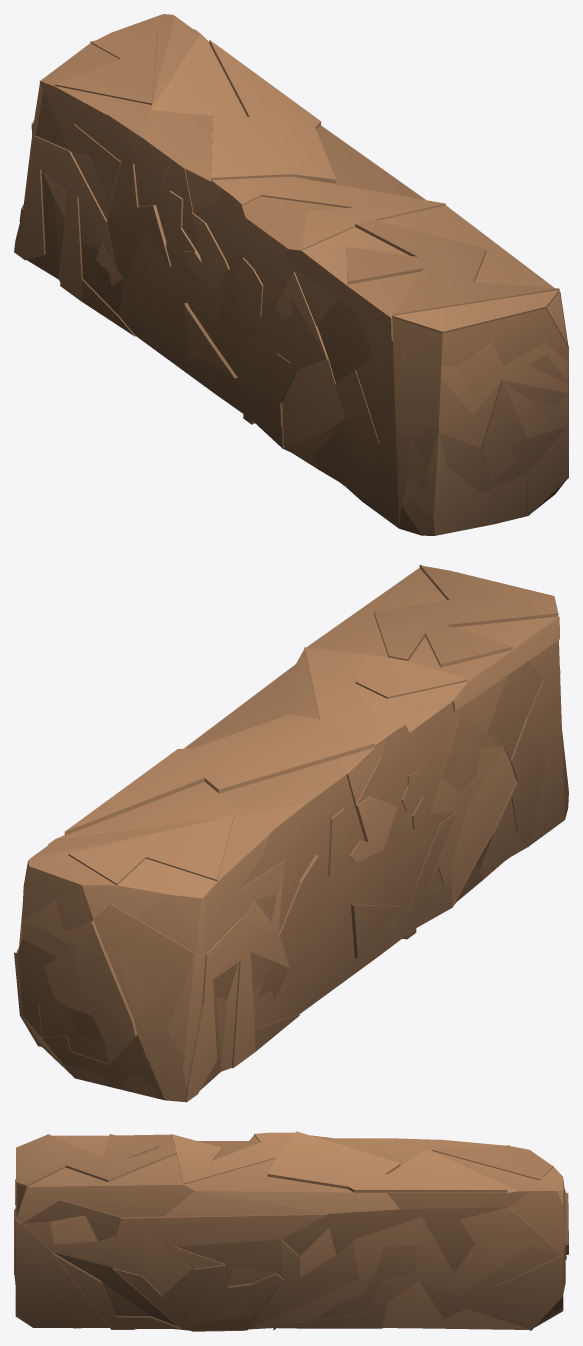
Rendered from Sandstone_Wall_Low_Poly_V1.glb.
3 views of the same model, one above another, from view 1: azimuth 30°, elevation 25°; view 2: azimuth 150°, elevation 25°; view 3: azimuth 270°, elevation 25° (orthographic). The views are drawn at different scales.
Visible parts, largest first — view 1: Cube; view 2: Cube; view 3: Cube.
Boxes of the visible parts, <box> form: Cube: <box>14,14,568,535</box>; Cube: <box>14,564,568,1102</box>; Cube: <box>14,1131,568,1331</box>.
Size of the model in its own units: 1.57 by 1.96 by 6.44.
Materials: 1 (1 with a texture image).
